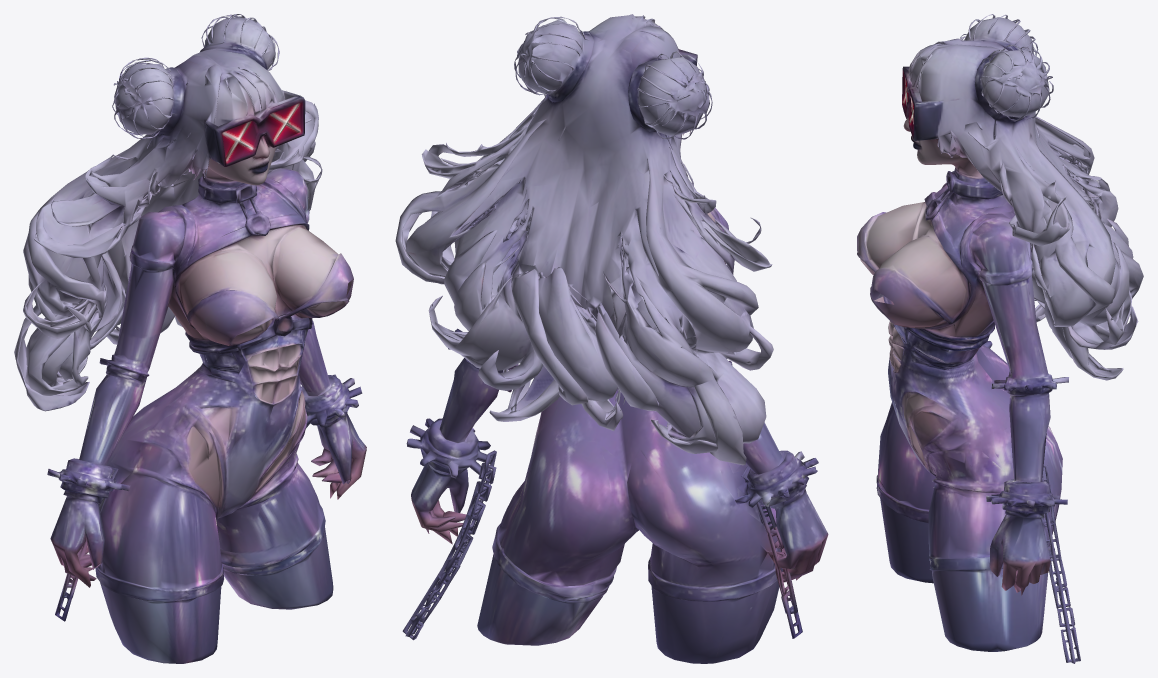
The picture shows the model from 3 angles, left to right: view 1: azimuth 30°, elevation 25°; view 2: azimuth 150°, elevation 25°; view 3: azimuth 270°, elevation 25°; orthographic projection. The views are drawn at different scales.
Parts seen in each view (by area): view 1: singer; view 2: singer; view 3: singer.
Boxes of the visible parts, x1,y1,x2,y2 form: singer: (14, 14, 366, 663); singer: (395, 14, 828, 663); singer: (857, 14, 1143, 663).
Size of the model in its own units: 0.64 by 1.03 by 0.4723.
Materials: 1 (1 with a texture image).
